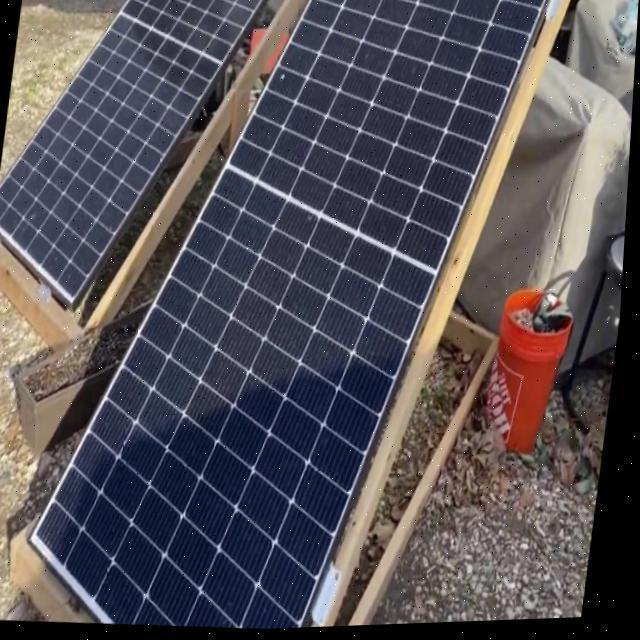Normal Solar Panel: (25, 0, 545, 638), (0, 0, 271, 317)
